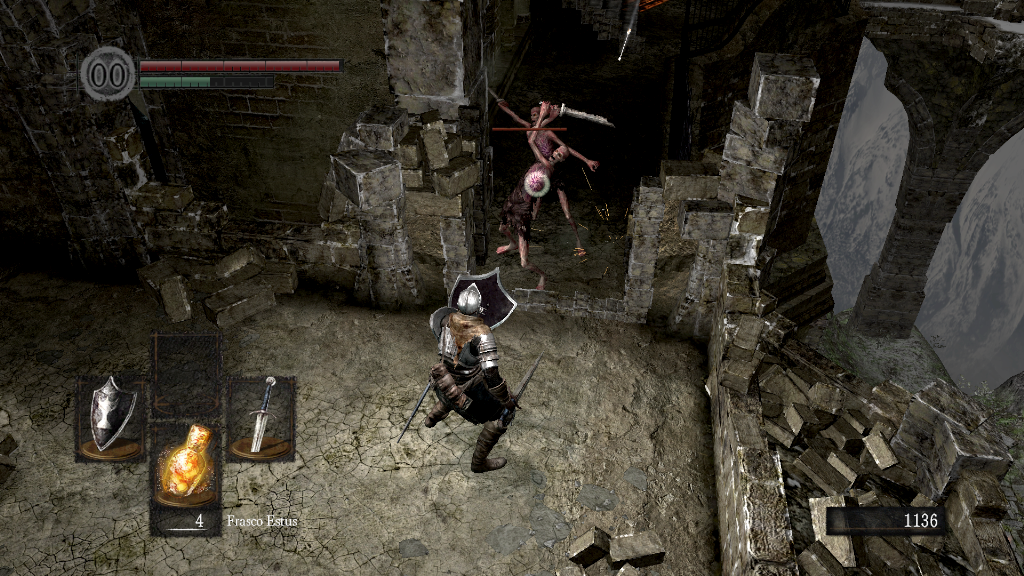health: (138, 58, 343, 71)
hollow: (488, 86, 600, 264), (502, 98, 569, 297)
humanity: (80, 45, 136, 102)
player: (392, 263, 544, 474)
souls: (825, 506, 945, 536)
stamina: (138, 74, 274, 88)
